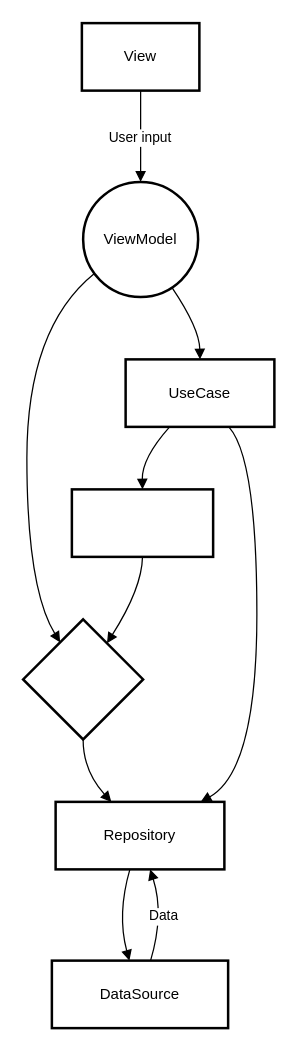
This 296x1050 diagram has some shape labels left out. The centre of each missing label's shape, as x and y in pixels:
Mapper: the point at 142,523
Model: the point at 82,679
